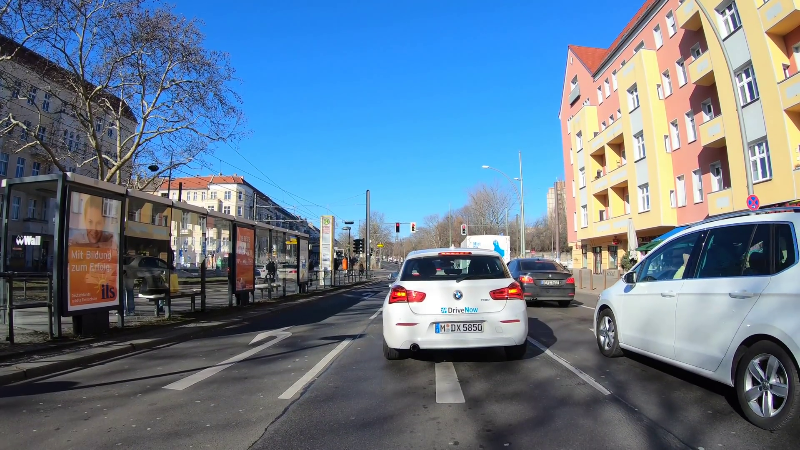Plate: (432, 318, 484, 333)
